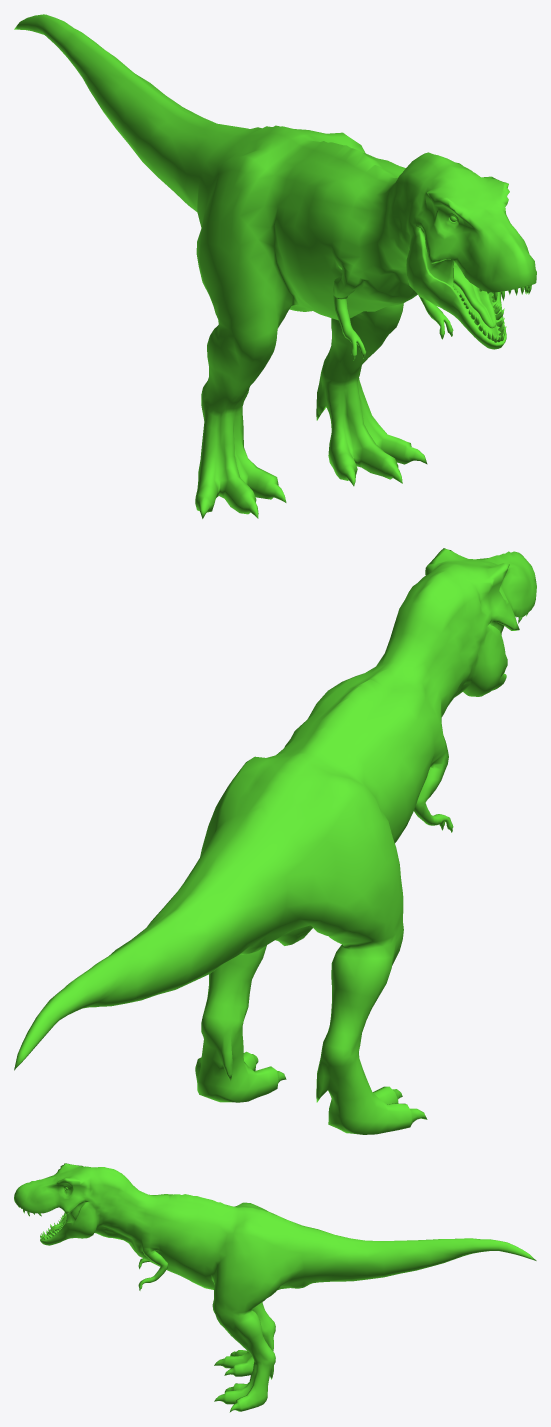
File: Trex.glb
3 renders of one model, top to bottom at view 1: azimuth 30°, elevation 25°; view 2: azimuth 150°, elevation 25°; view 3: azimuth 270°, elevation 25°, orthographic. The views are drawn at different scales.
Visible parts, largest first — view 1: trex; view 2: trex; view 3: trex.
Part boxes in pixels (x1=…): trex: x1=14, y1=14, x2=536, y2=518; trex: x1=14, y1=548, x2=536, y2=1134; trex: x1=14, y1=1163, x2=536, y2=1412.
Size of the model in its own units: 4.19 by 7.65 by 16.51.
